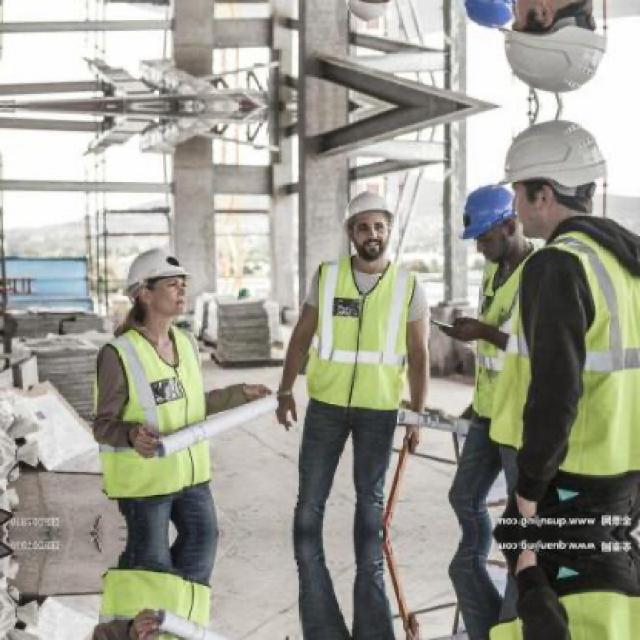helmet: (502, 117, 610, 241), (502, 0, 612, 97), (118, 240, 194, 324), (457, 180, 520, 264), (338, 184, 398, 264), (457, 0, 521, 34), (338, 0, 400, 31)
